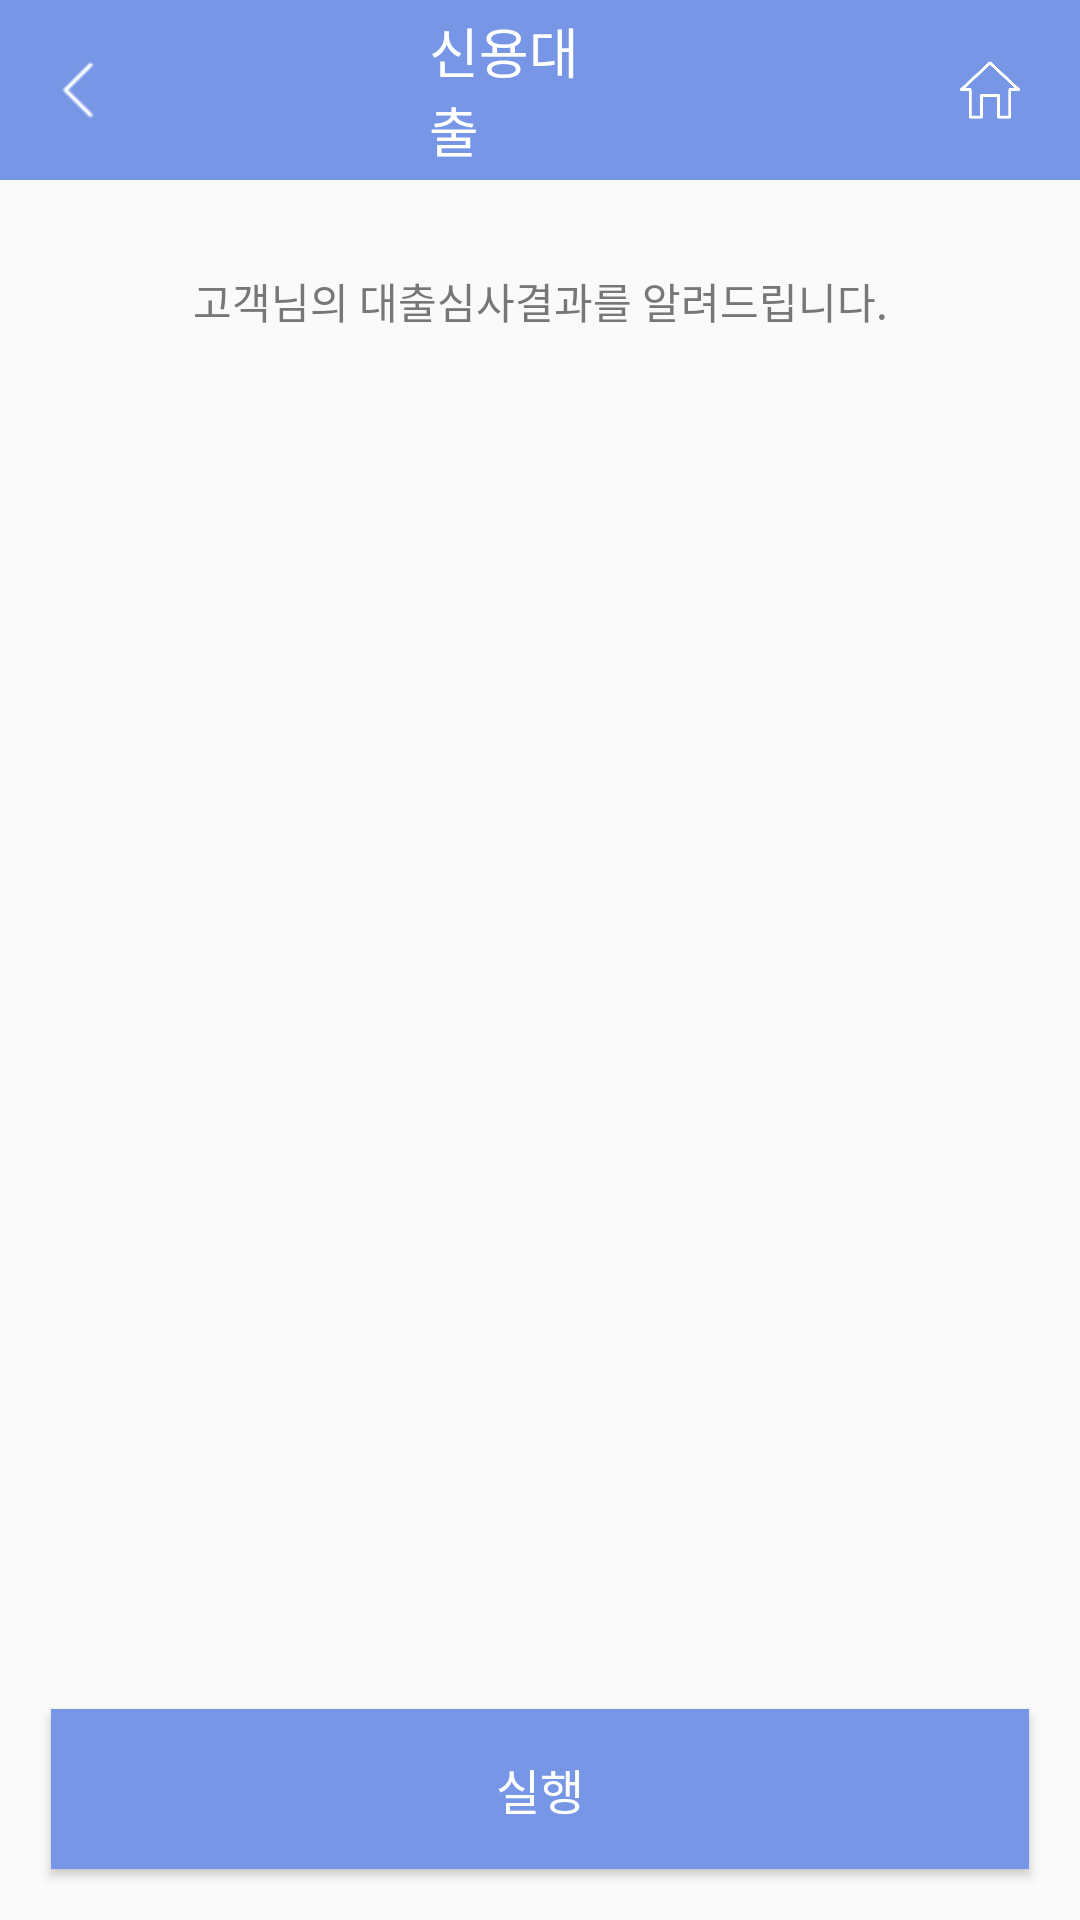

Locate icon controls on the screen. Image size 1080x1920, boxes as (x1, y1, x2, y2).
top back: (63, 62, 93, 118)
top home: (960, 61, 1020, 119)
